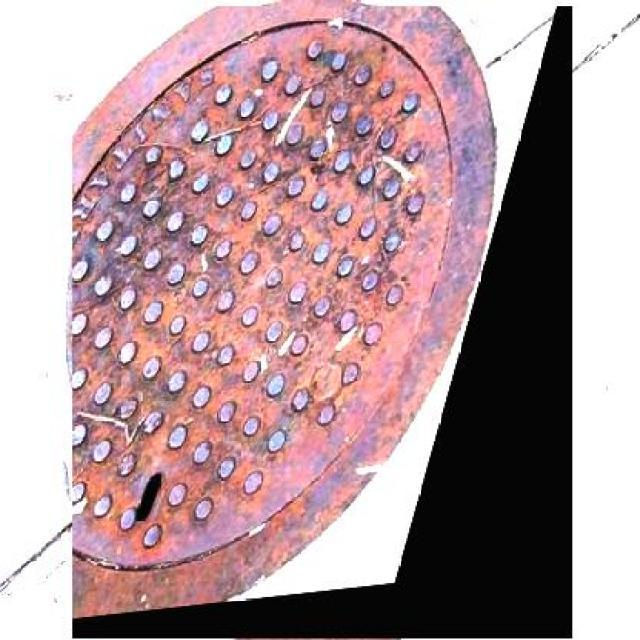Manhole: (72, 6, 572, 639)
